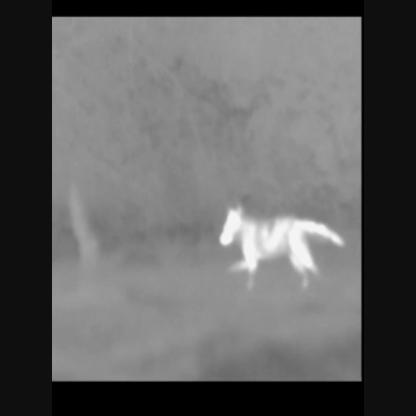rehkitze: (217, 206, 344, 299)
